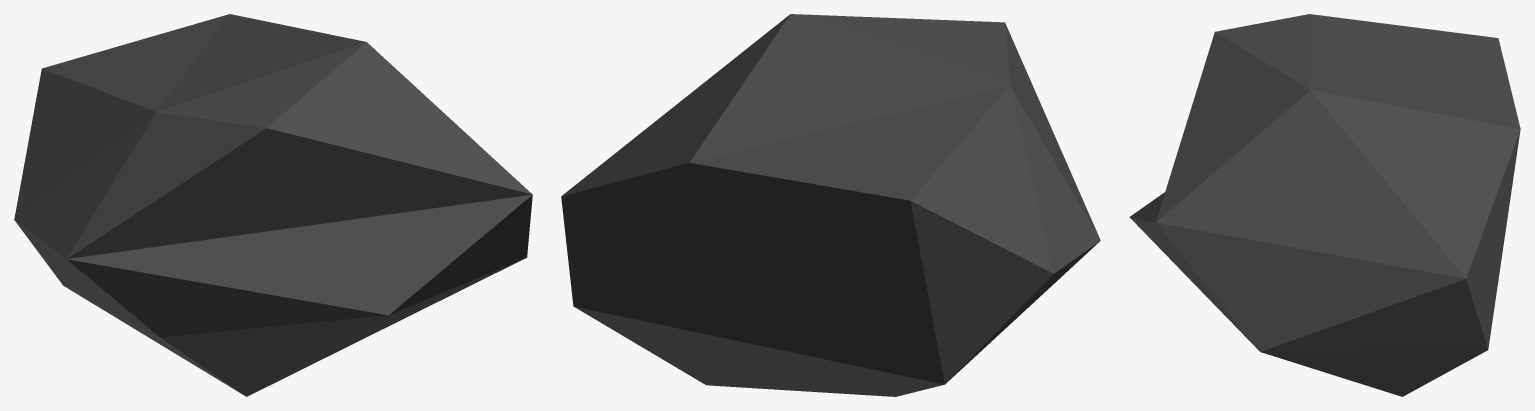
Rendered from Asteroid.001.glb.
3 views of the same model, side by side, from view 1: azimuth 30°, elevation 25°; view 2: azimuth 150°, elevation 25°; view 3: azimuth 270°, elevation 25° (orthographic). The views are drawn at different scales.
Visible parts, largest first — view 1: Asteroid.001; view 2: Asteroid.001; view 3: Asteroid.001.
Boxes of the visible parts, bbox=[...] form: Asteroid.001: bbox=[14, 14, 532, 396]; Asteroid.001: bbox=[561, 14, 1100, 396]; Asteroid.001: bbox=[1129, 14, 1520, 396].
Size of the model in its own units: 9.96 by 7.29 by 8.6.
1 material, 1 textured.
